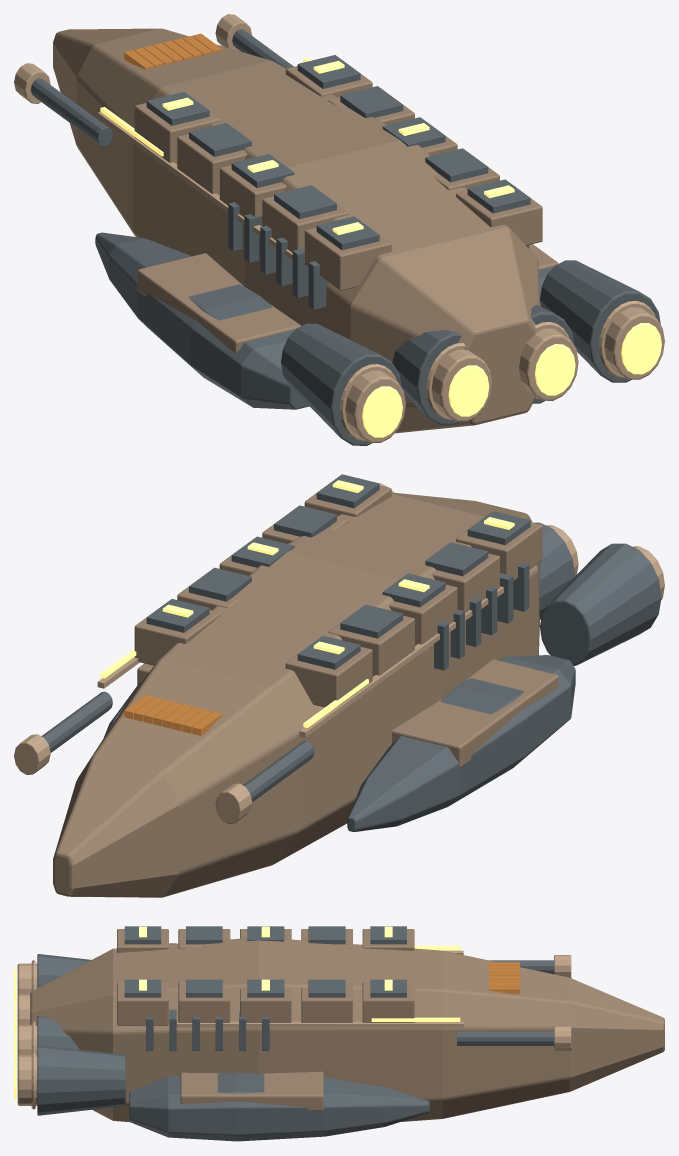
The model's file is destroyer_raptor.glb.
3 views of the same model, one above another, from view 1: azimuth 30°, elevation 25°; view 2: azimuth 150°, elevation 25°; view 3: azimuth 270°, elevation 25° (orthographic). The views are drawn at different scales.
Visible parts, largest first — view 1: deepforge_hull.001, deepforge_dark.001, deepforge_trim.001, deepforge_glow.001, deepforge_glass.001; view 2: deepforge_hull.001, deepforge_dark.001, deepforge_trim.001, deepforge_glow.001, deepforge_glass.001; view 3: deepforge_hull.001, deepforge_dark.001, deepforge_trim.001, deepforge_glow.001, deepforge_glass.001.
Boxes of the visible parts, bbox=[...] form: deepforge_hull.001: bbox=[53, 28, 558, 433]; deepforge_dark.001: bbox=[30, 29, 660, 445]; deepforge_trim.001: bbox=[14, 14, 664, 442]; deepforge_glow.001: bbox=[100, 57, 661, 437]; deepforge_glass.001: bbox=[124, 33, 222, 69]; deepforge_hull.001: bbox=[53, 485, 558, 897]; deepforge_dark.001: bbox=[41, 474, 661, 831]; deepforge_trim.001: bbox=[14, 483, 664, 824]; deepforge_glow.001: bbox=[100, 480, 514, 727]; deepforge_glass.001: bbox=[124, 695, 222, 735]; deepforge_hull.001: bbox=[30, 929, 664, 1122]; deepforge_dark.001: bbox=[37, 926, 553, 1141]; deepforge_trim.001: bbox=[17, 950, 571, 1109]; deepforge_glow.001: bbox=[14, 926, 460, 1100]; deepforge_glass.001: bbox=[489, 962, 519, 994].
Bounding box in the file's own units: 30 × 18 × 70.
